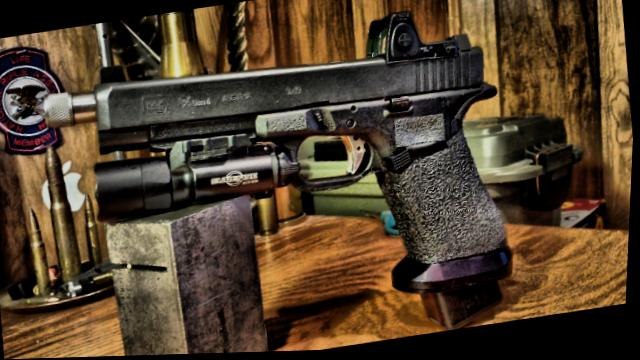pistol: (77, 0, 529, 358)
